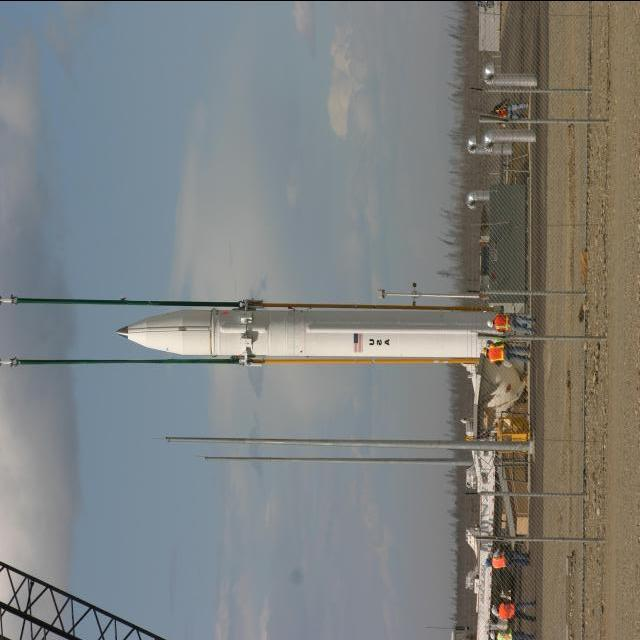Missile: (117, 305, 481, 370)
